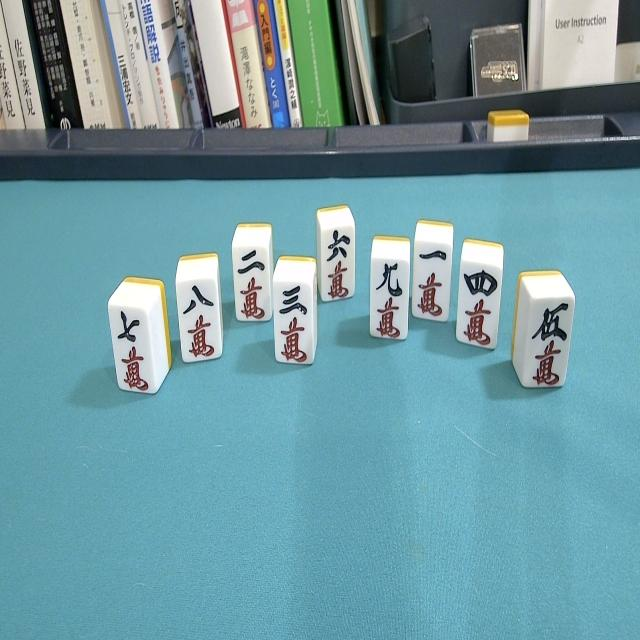1_man: (411, 218, 456, 328)
2_man: (230, 218, 276, 332)
3_man: (270, 255, 318, 374)
4_man: (455, 239, 505, 358)
5_man: (510, 269, 574, 401)
6_man: (314, 206, 358, 306)
7_man: (107, 278, 172, 406)
8_man: (174, 253, 224, 369)
9_man: (369, 236, 411, 348)
